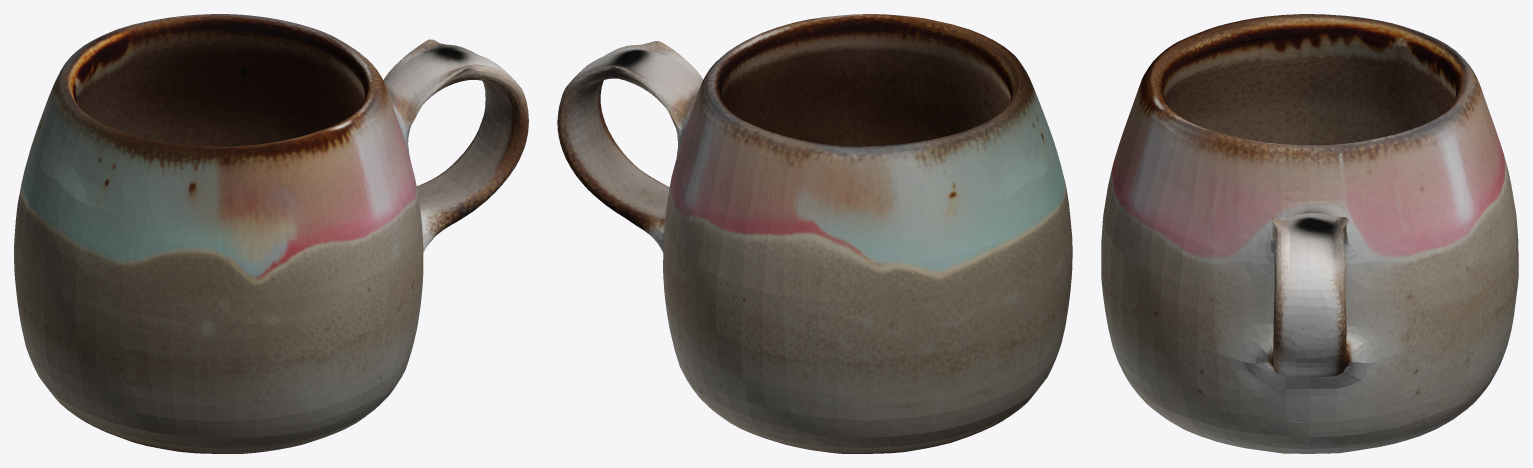
3 renders of one model, left to right at view 1: azimuth 30°, elevation 25°; view 2: azimuth 150°, elevation 25°; view 3: azimuth 270°, elevation 25°, orthographic.
Parts seen in each view (by area): view 1: world; view 2: world; view 3: world.
Part boxes in pixels (x1,y1,x2,y2): world: [14, 14, 528, 453]; world: [557, 14, 1072, 453]; world: [1101, 14, 1518, 453].
Bounding box in the file's own units: 0.9999 × 0.6401 × 0.7625.
Materials: 1 (1 with a texture image).
